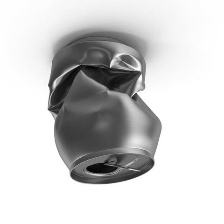can: (42, 32, 166, 185)
